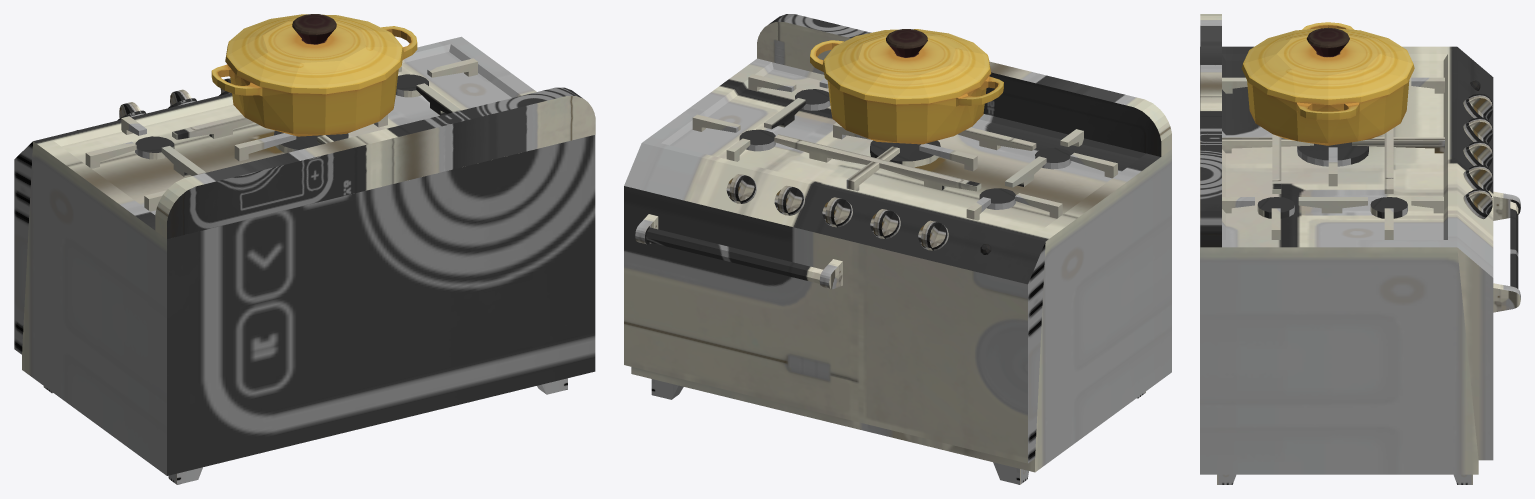
Rendered from P_GasStoves_001_S1_M001.obj.
3 views of the same model, side by side, from view 1: azimuth 30°, elevation 25°; view 2: azimuth 150°, elevation 25°; view 3: azimuth 270°, elevation 25° (orthographic). The views are drawn at different scales.
Bounding box in the file's own units: 1.49 × 1.24 × 1.
2 materials, 2 textured.
